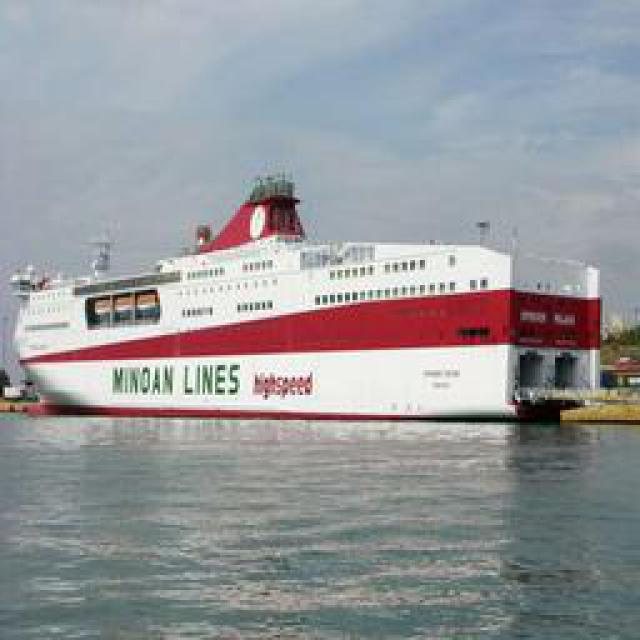Ship: (20, 168, 603, 426)
